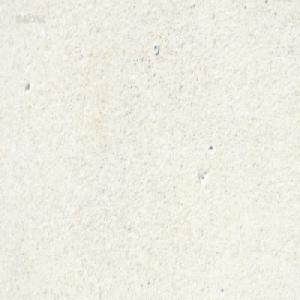Washer: (152, 43, 158, 54)
